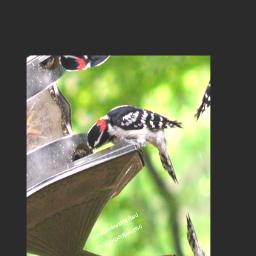Woodpecker: (75, 77, 203, 221)
